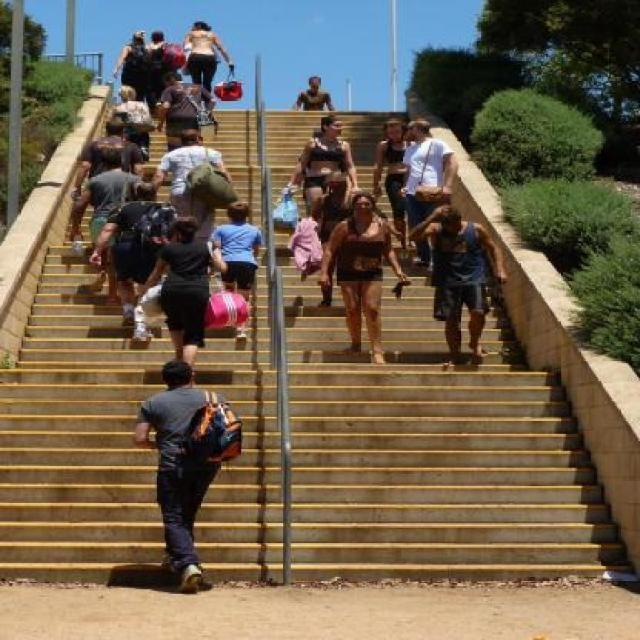stair: (0, 110, 637, 584)
